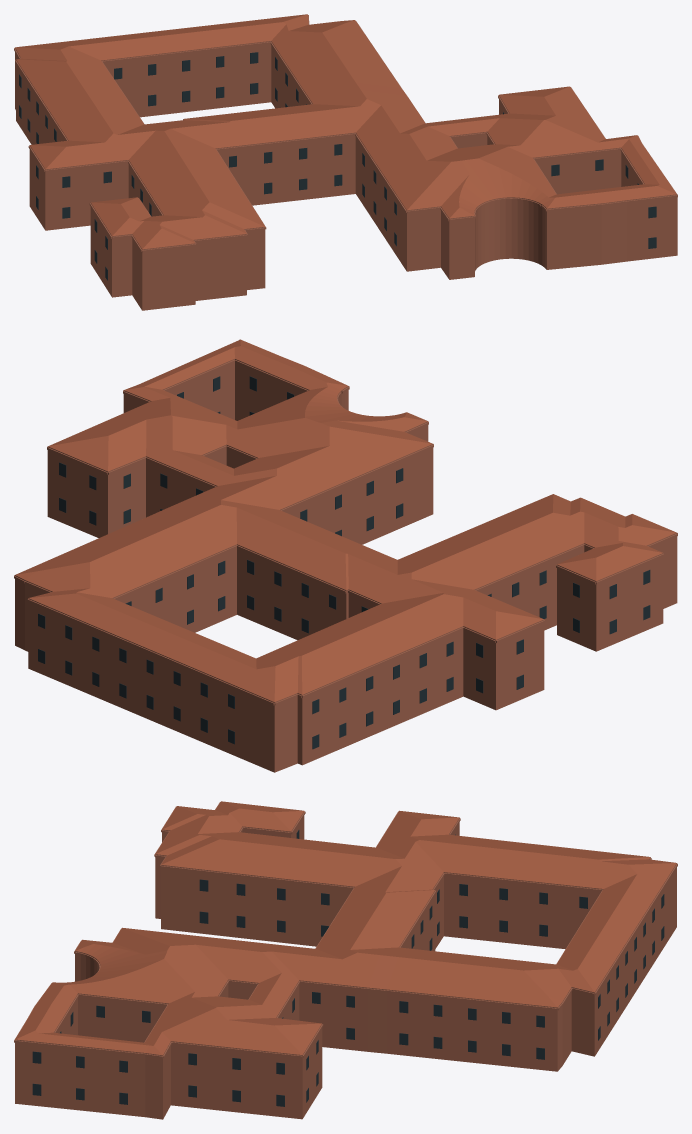
Rendered from last-supper.glb.
3 views of the same model, one above another, from view 1: azimuth 30°, elevation 25°; view 2: azimuth 150°, elevation 25°; view 3: azimuth 270°, elevation 25° (orthographic). The views are drawn at different scales.
Visible parts, largest first — view 1: primary-roof, primary-envelope, cornice, window-rhythm; view 2: primary-roof, primary-envelope, window-rhythm, cornice; view 3: primary-roof, primary-envelope, window-rhythm, cornice.
Boxes of the visible parts, box(x1,y1,x2,y2) form: primary-roof: box(15, 14, 676, 249); primary-envelope: box(15, 41, 677, 310); cornice: box(14, 15, 677, 252); window-rhythm: box(19, 52, 656, 280); primary-roof: box(15, 339, 676, 701); primary-envelope: box(15, 359, 677, 772); window-rhythm: box(38, 376, 650, 749); cornice: box(14, 359, 677, 705); primary-roof: box(15, 801, 676, 1055); primary-envelope: box(15, 811, 676, 1119); window-rhythm: box(32, 830, 664, 1106); cornice: box(14, 802, 677, 1058).
Size of the model in its own units: 14.54 by 2.14 by 16.
